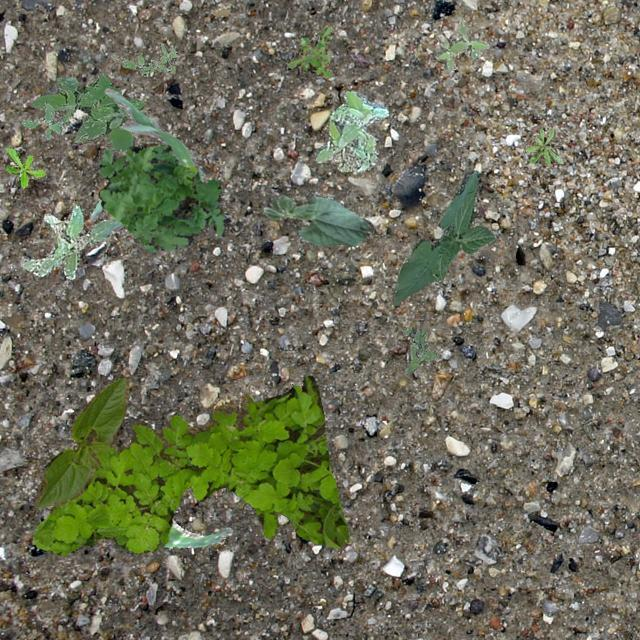crop: (90, 86, 204, 238), (391, 170, 494, 304), (33, 378, 128, 508), (262, 192, 372, 246), (162, 516, 232, 546)
weed: (31, 374, 348, 554), (96, 144, 226, 250), (29, 72, 143, 152), (22, 202, 116, 278), (314, 90, 388, 172), (434, 18, 488, 76), (284, 24, 334, 76), (110, 42, 178, 76), (402, 326, 440, 372), (20, 100, 64, 138), (5, 146, 44, 186), (524, 126, 562, 166)
